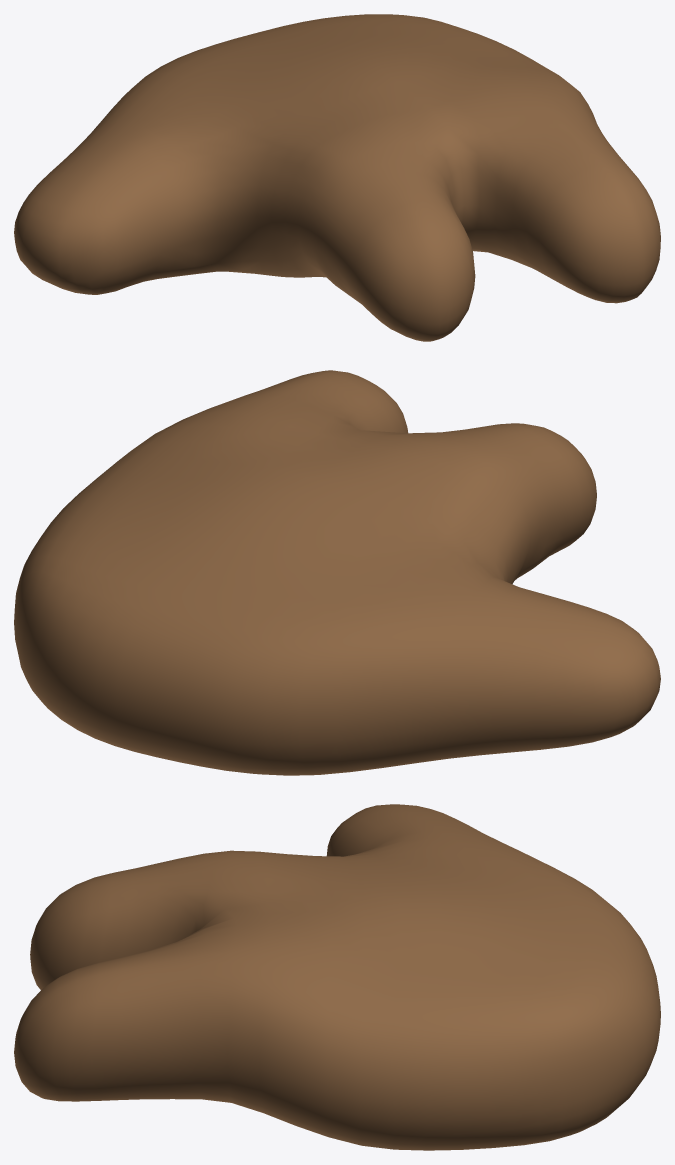
The model's file is left-hand.fbx.
3 renders of one model, top to bottom at view 1: azimuth 30°, elevation 25°; view 2: azimuth 150°, elevation 25°; view 3: azimuth 270°, elevation 25°, orthographic. The views are drawn at different scales.
Visible parts, largest first — view 1: Left Hand; view 2: Left Hand; view 3: Left Hand.
Boxes of the visible parts, box(x1,y1,x2,y2) form: Left Hand: box(14, 14, 660, 341); Left Hand: box(14, 370, 660, 775); Left Hand: box(14, 804, 660, 1150).
Bounding box in the file's own units: 15.99 × 5.25 × 15.84.
